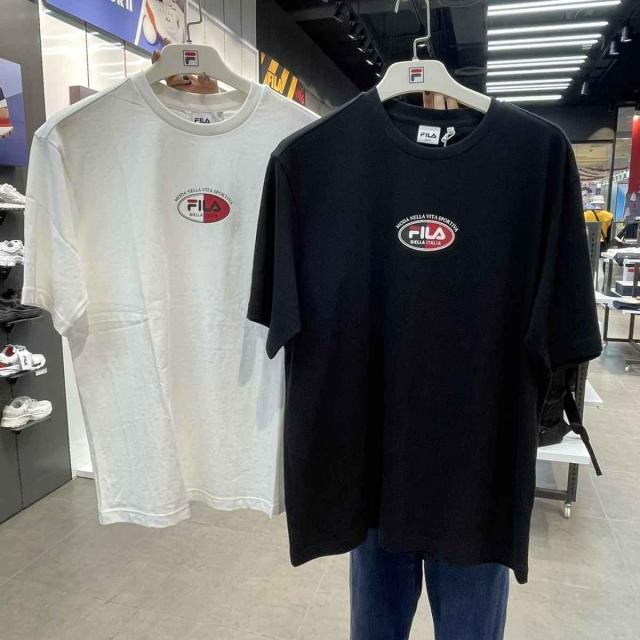Tshirt: (260, 98, 578, 547), (21, 78, 287, 510)
